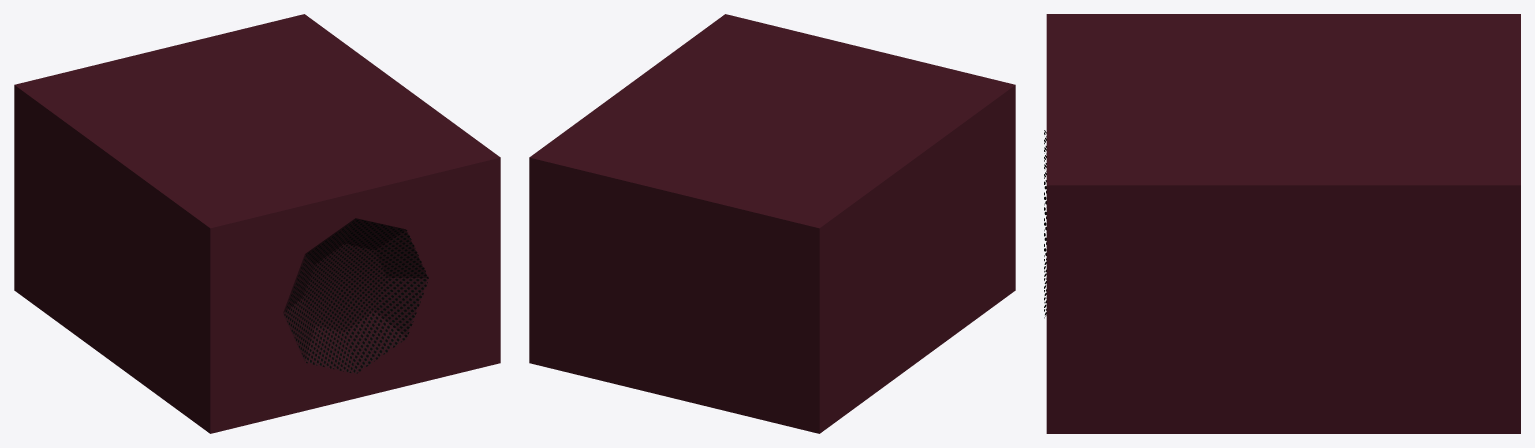
The model's file is Itr_Obj_Speaker1_Top_04.FBX.
3 views of the same model, side by side, from view 1: azimuth 30°, elevation 25°; view 2: azimuth 150°, elevation 25°; view 3: azimuth 270°, elevation 25° (orthographic). The views are drawn at different scales.
Parts seen in each view (by area): view 1: Itr_Obj_Speaker1_Top_04; view 2: Itr_Obj_Speaker1_Top_04; view 3: Itr_Obj_Speaker1_Top_04.
Part boxes in pixels (x1=…): Itr_Obj_Speaker1_Top_04: x1=14, y1=14, x2=500, y2=433; Itr_Obj_Speaker1_Top_04: x1=529, y1=14, x2=1015, y2=433; Itr_Obj_Speaker1_Top_04: x1=1044, y1=14, x2=1520, y2=433.
Bounding box in the file's own units: 9.88 × 6.69 × 11.62.
